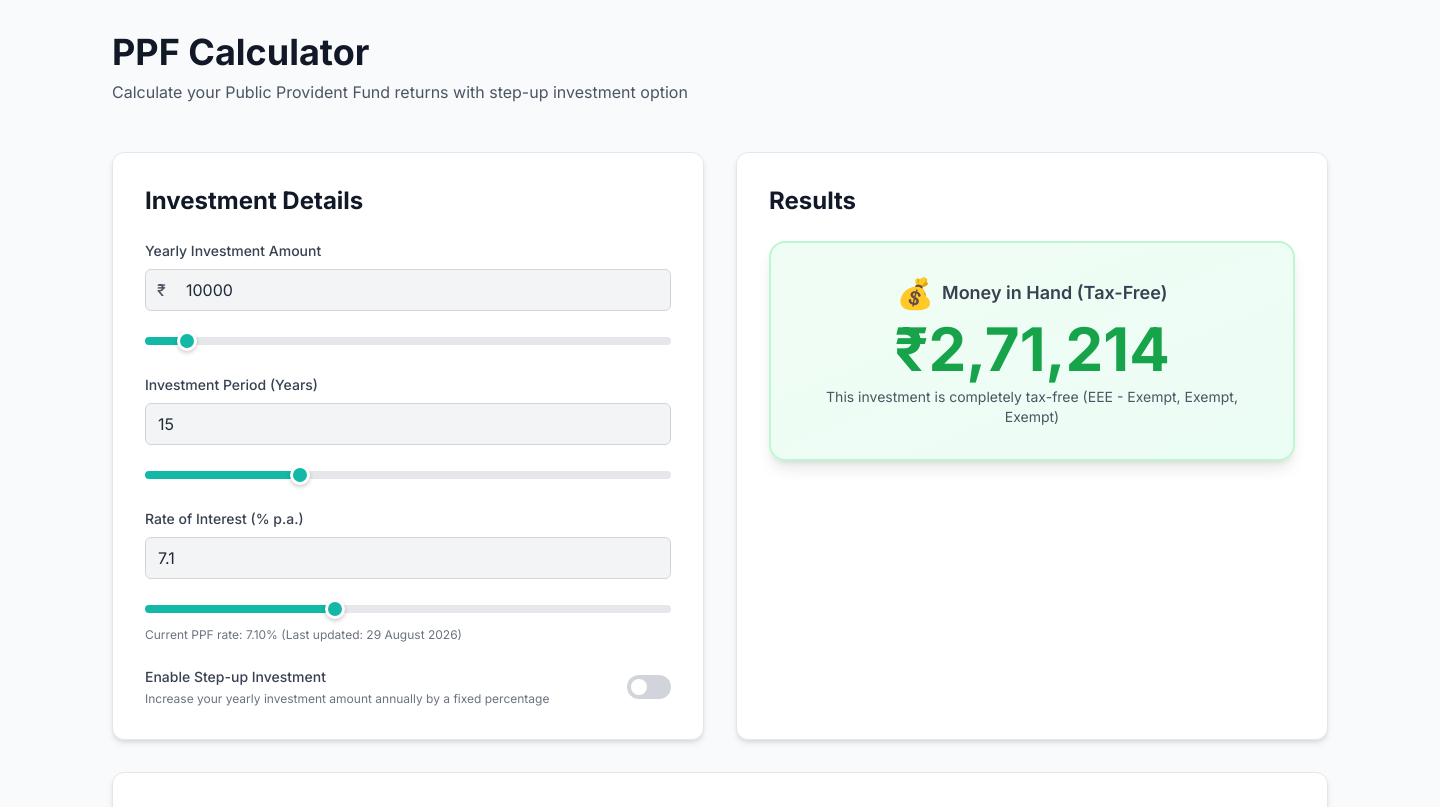
Test: PPF Calculator › PPF-09 / PPF-20 — Maximum Investment Validation › PPF-09: should validate maximum investment of ₹1.5L per year
The image size is (1440, 807).
In the 1st number field: (408, 290) [145,269,671,311], type "200000"
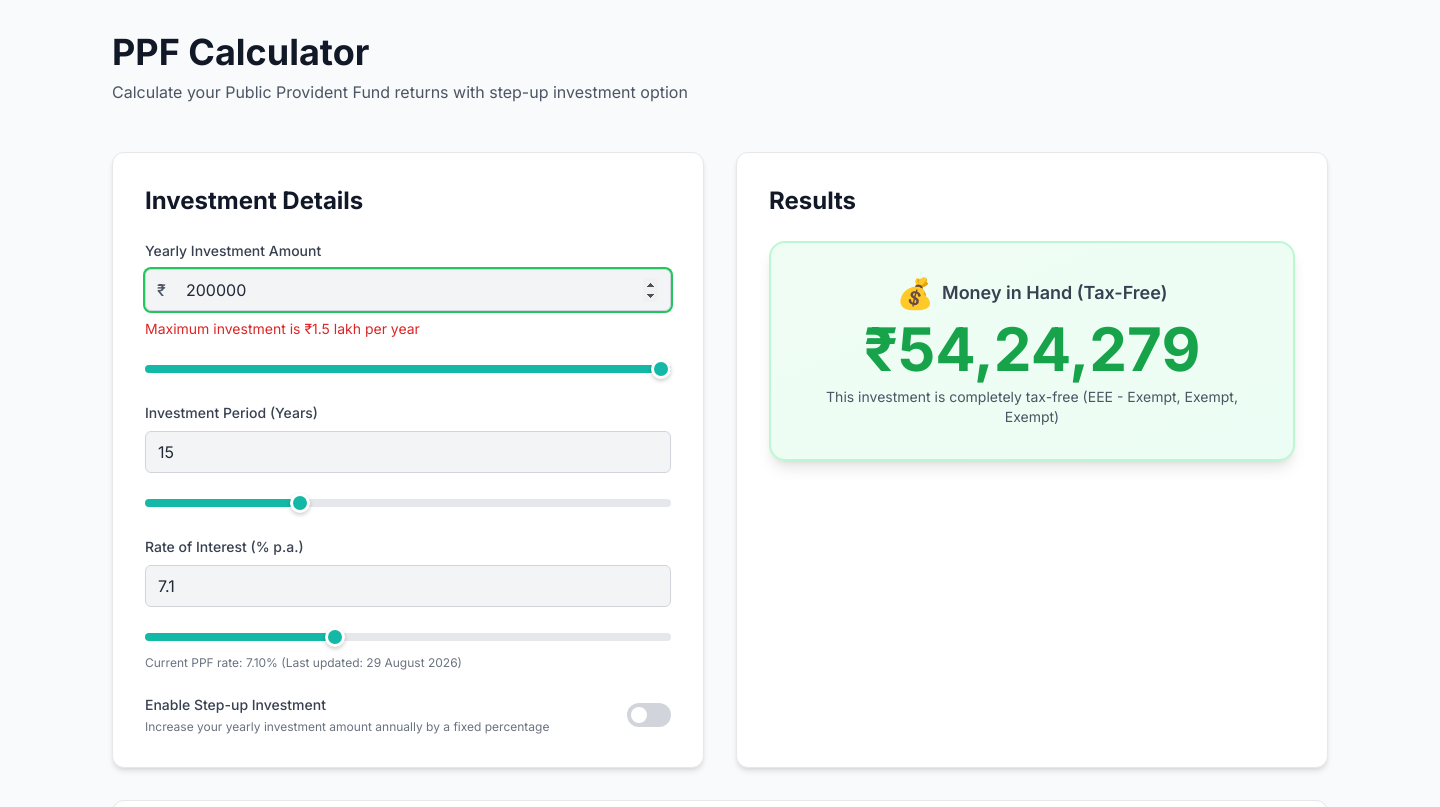
Expected: the text "Maximum investment is ₹1.5 lakh per year" is shown, [145,320,420,337]
